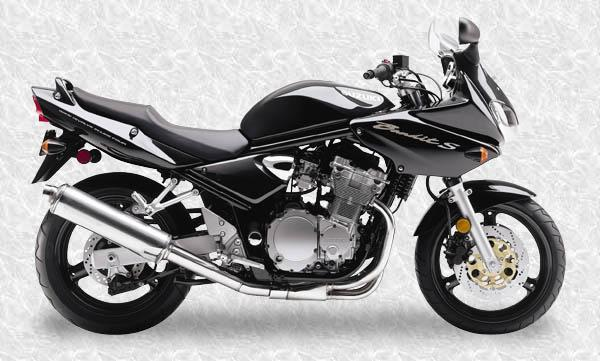motorcycle: (14, 10, 578, 350)
